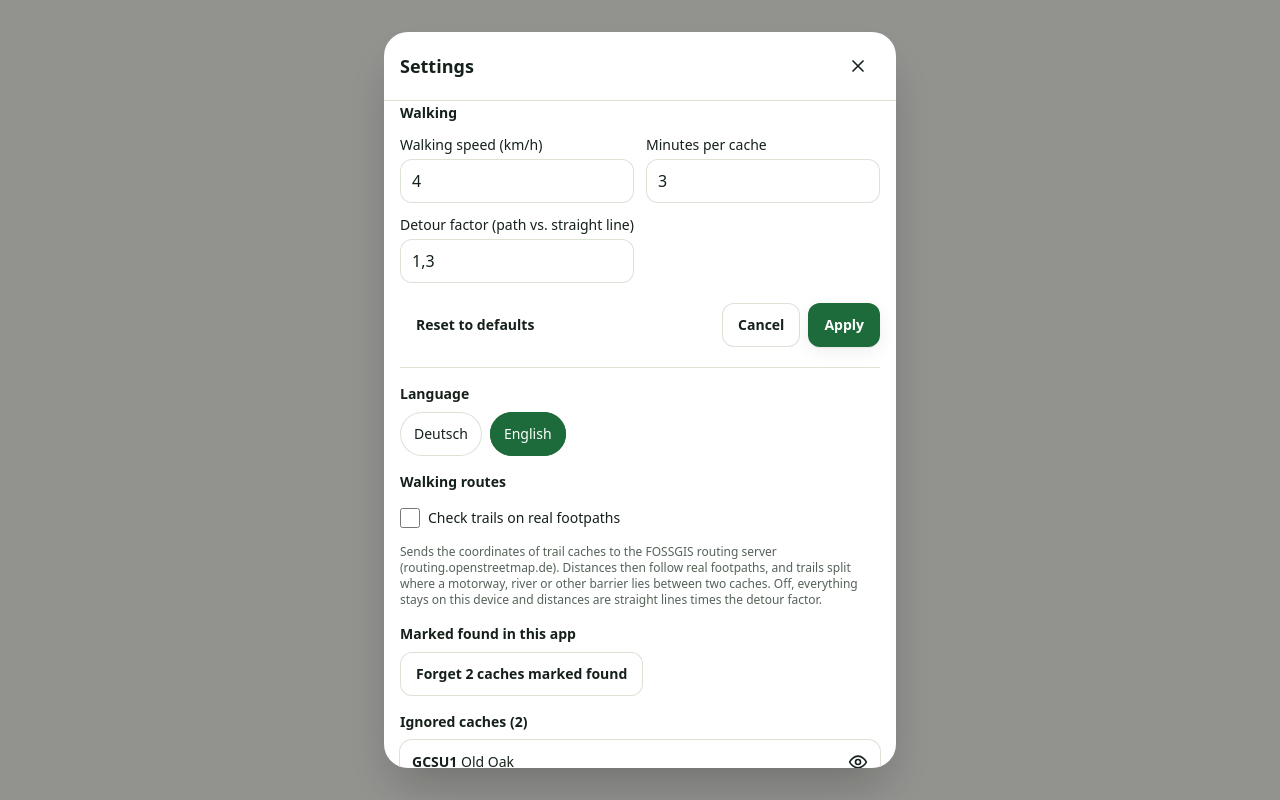
it: SettingsDialog › switches the language at once and marks the current one
(page scrolled)
Click the button "Deutsch" at (441, 434), box [400,412,482,456]
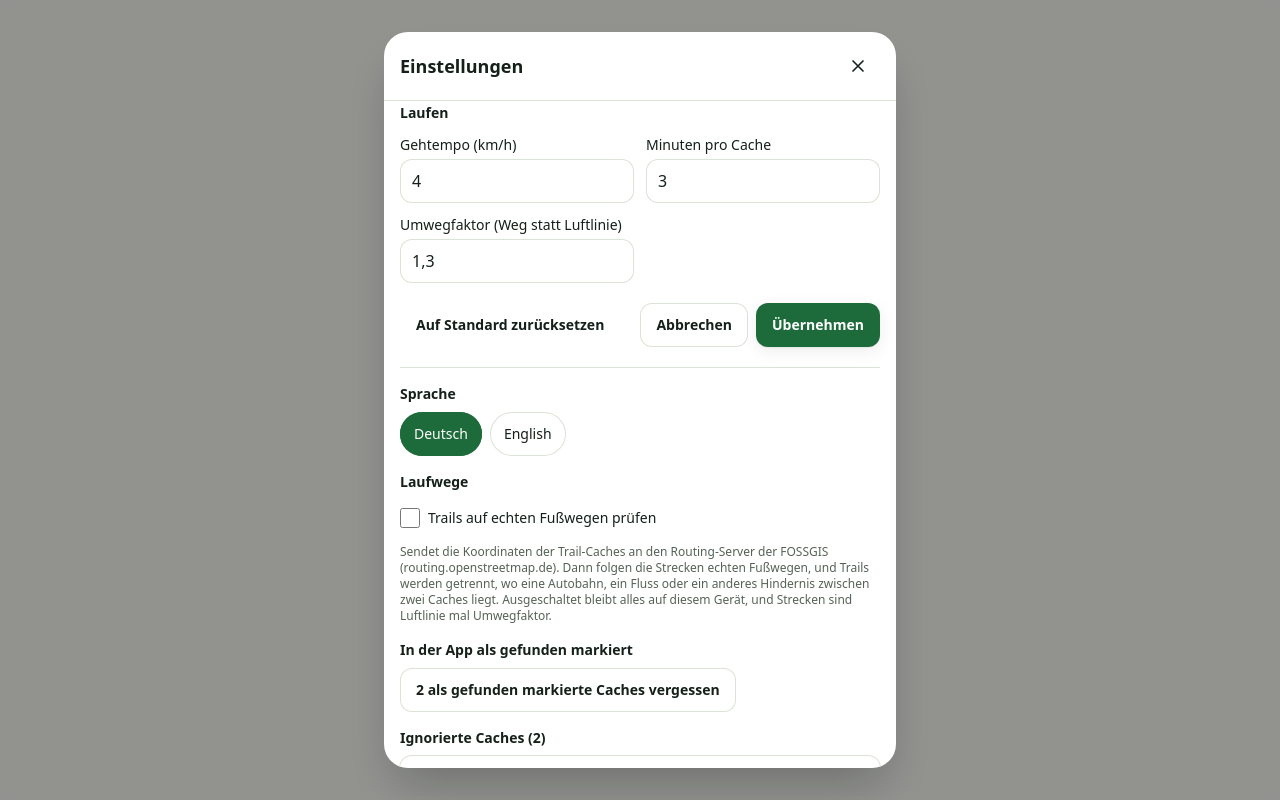
Expected: the dialog "Einstellungen" is shown, [384,32,896,768]
